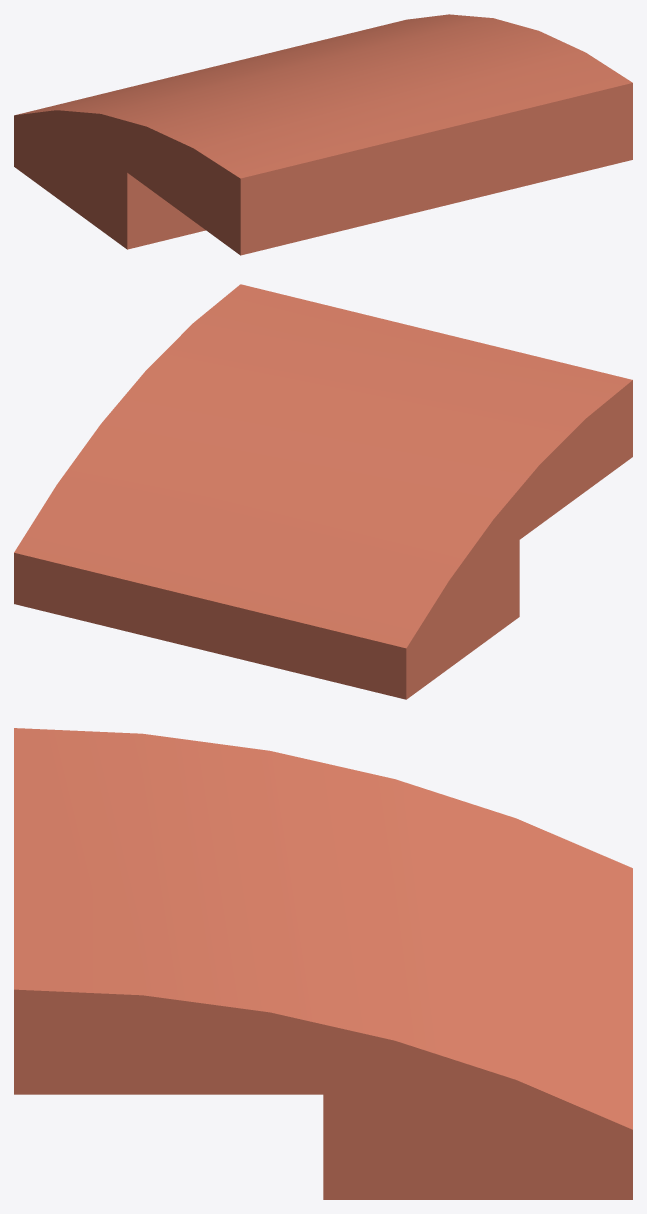
3 renders of one model, top to bottom at view 1: azimuth 30°, elevation 25°; view 2: azimuth 150°, elevation 25°; view 3: azimuth 270°, elevation 25°, orthographic. The views are drawn at different scales.
Visible parts, largest first — view 1: [pivoted]; view 2: [pivoted]; view 3: [pivoted].
Part boxes in pixels (x1,y1,x2,y2): [pivoted]: (14,14,632,255); [pivoted]: (14,284,632,699); [pivoted]: (14,728,632,1199).
Bounding box in the file's own units: 1.6 × 0.6 × 1.6.
